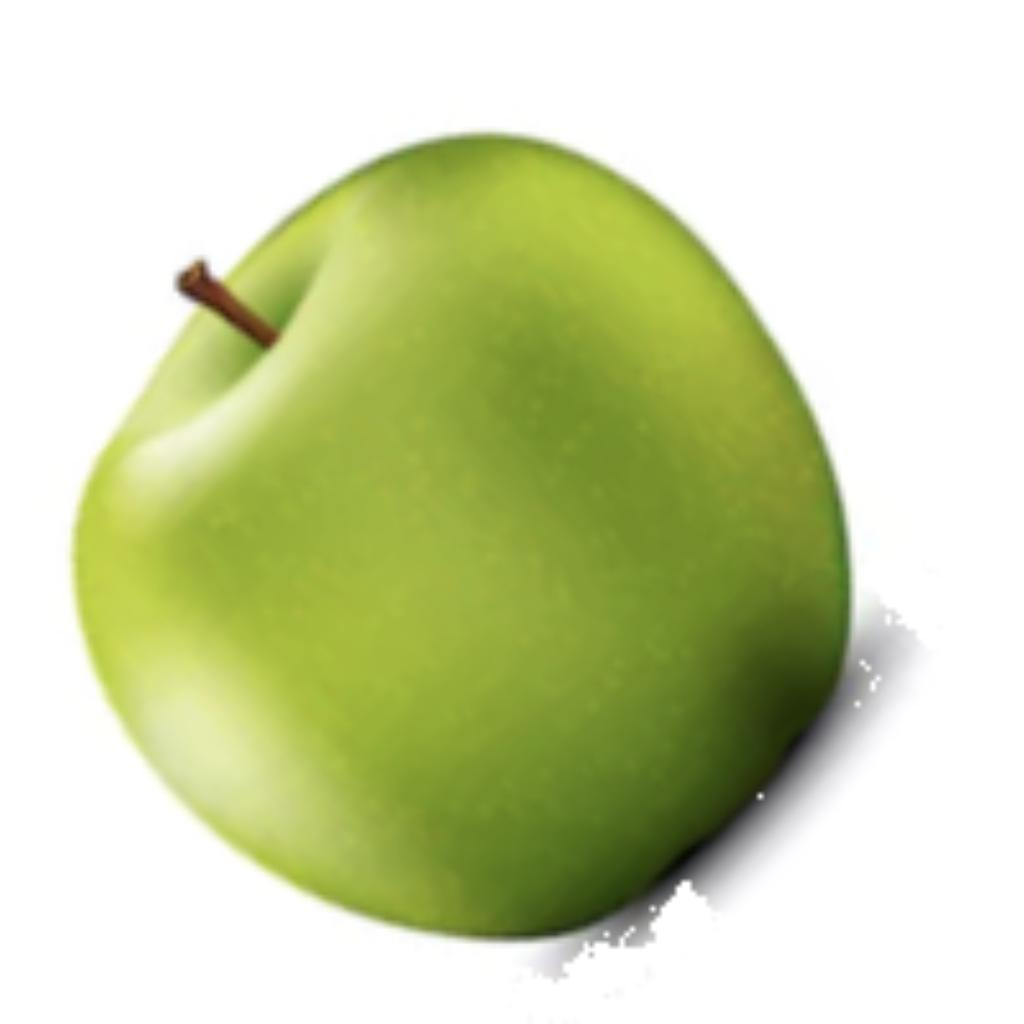apple: (61, 123, 932, 983)
